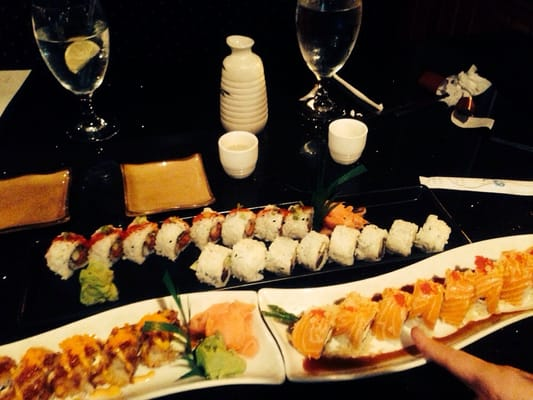pizza: (218, 130, 259, 180), (328, 118, 368, 166)
